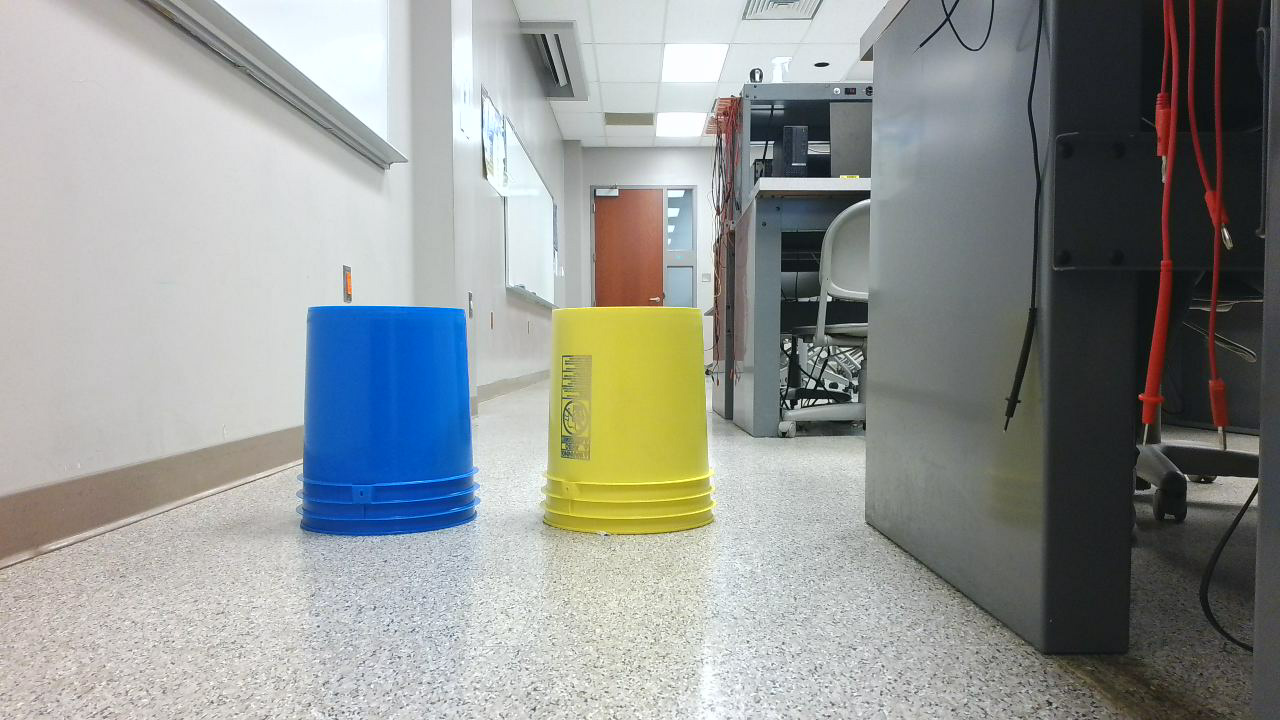blue_bucket: (296, 307, 492, 546)
yellow_bucket: (542, 308, 727, 544)
